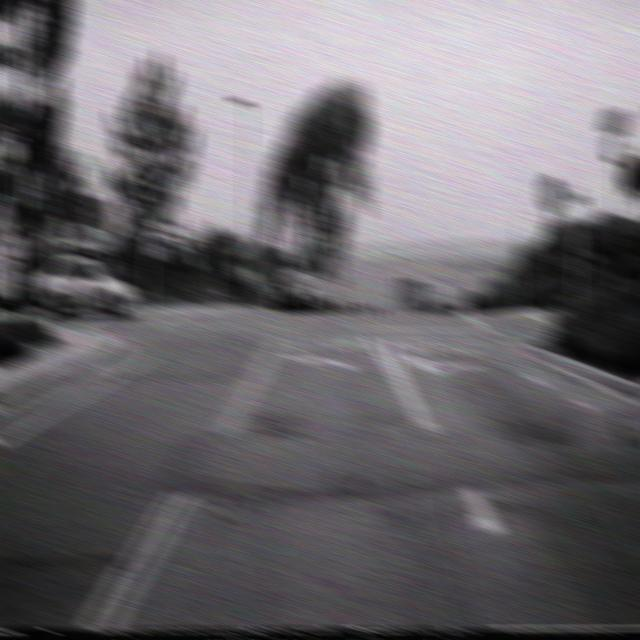stop_sign: (537, 173, 566, 218)
